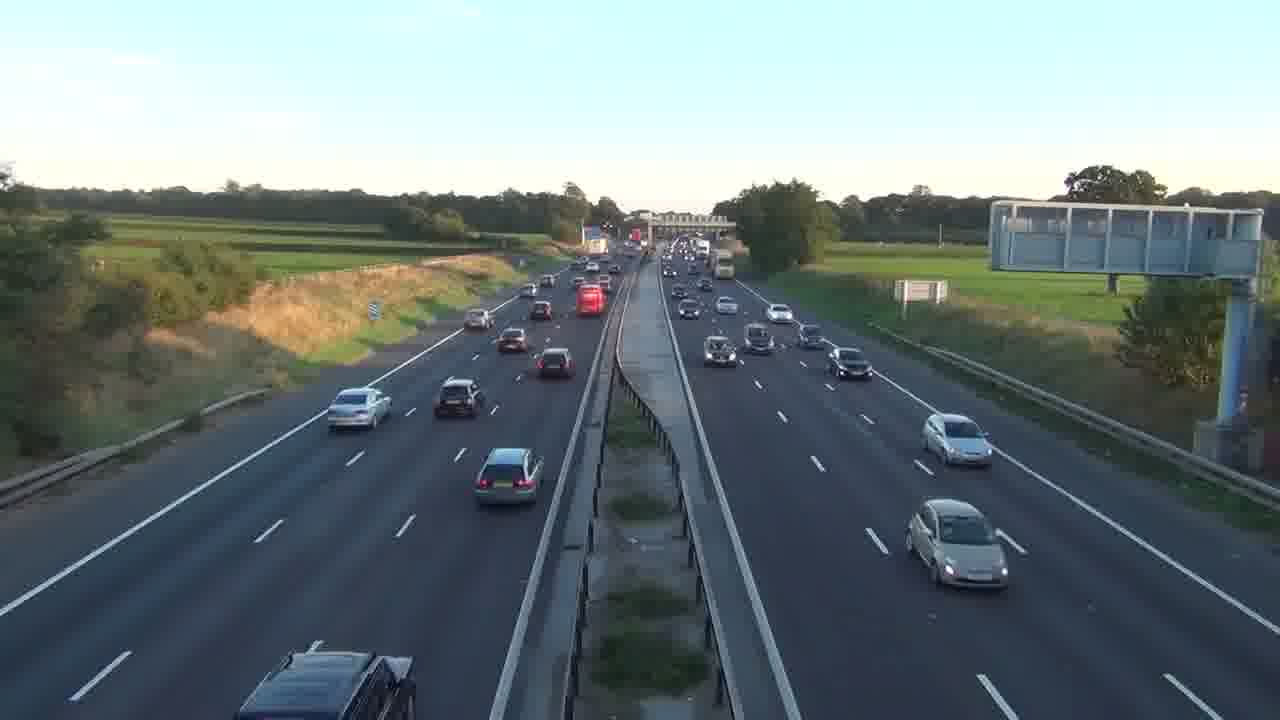car: (235, 639, 418, 718), (904, 496, 1010, 590), (472, 447, 544, 507), (922, 411, 995, 467), (327, 387, 392, 431), (433, 376, 483, 419), (531, 347, 576, 379), (830, 347, 873, 379), (703, 335, 742, 368)
truck: (235, 639, 418, 718)
